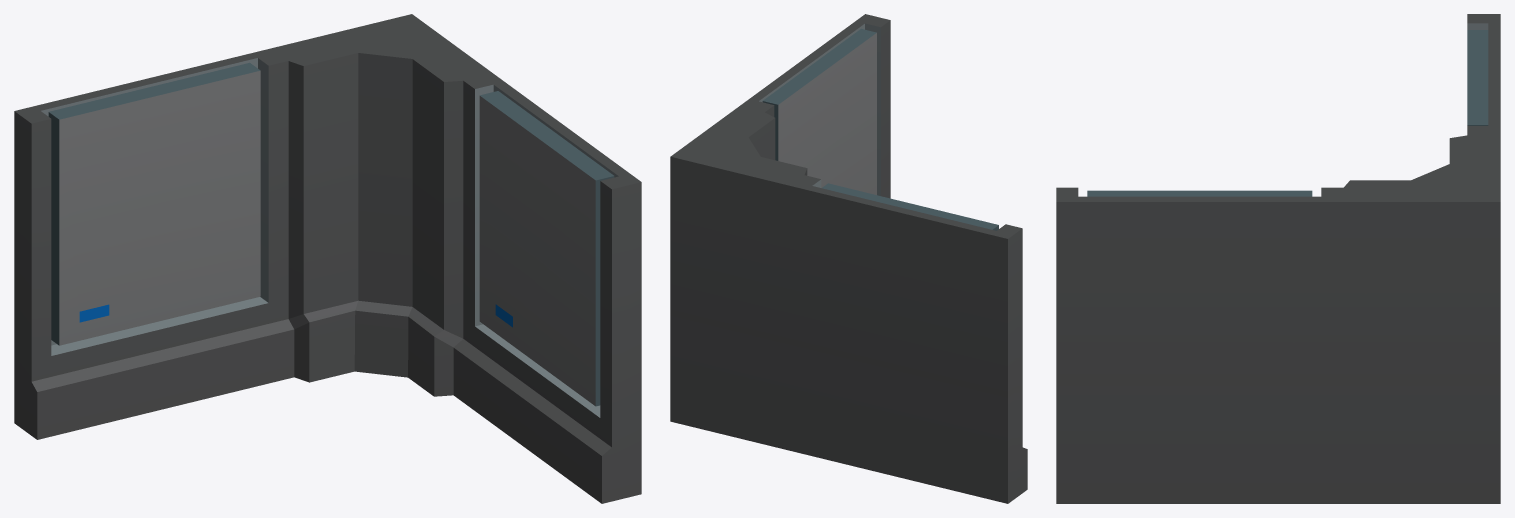
The model's file is Wall_type_B_035.fbx.
The picture shows the model from 3 angles, left to right: view 1: azimuth 30°, elevation 25°; view 2: azimuth 150°, elevation 25°; view 3: azimuth 270°, elevation 25°; orthographic projection. The views are drawn at different scales.
Visible parts, largest first — view 1: Wall_type_B_035; view 2: Wall_type_B_035; view 3: Wall_type_B_035.
Boxes of the visible parts, x1,y1,x2,y2 form: Wall_type_B_035: [14, 14, 641, 503]; Wall_type_B_035: [670, 14, 1027, 503]; Wall_type_B_035: [1056, 14, 1500, 503].
Size of the model in its own units: 200 by 200 by 150.
